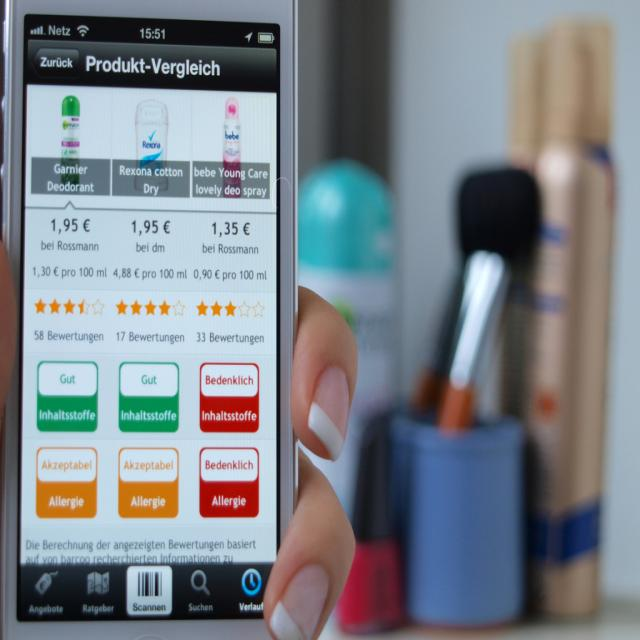Mobile-phone: (0, 0, 301, 639)
